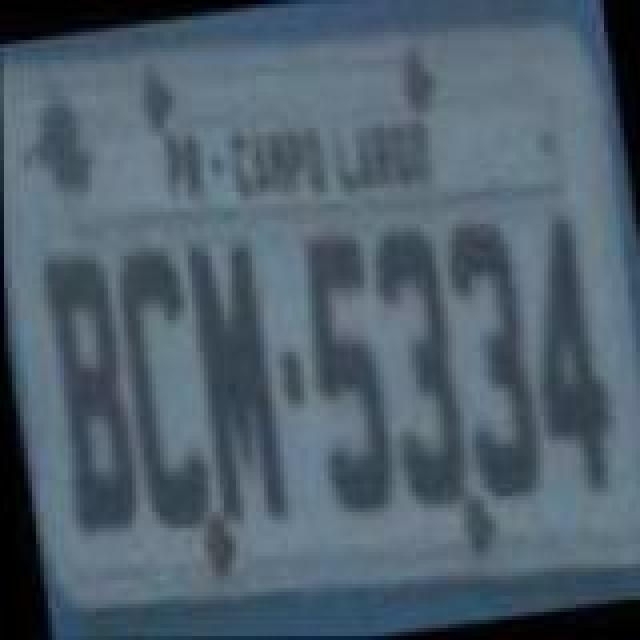3: (430, 210, 550, 510), (356, 216, 472, 516)
4: (508, 206, 624, 506)
5: (282, 222, 402, 526)
B: (28, 242, 144, 542)
C: (98, 240, 218, 540)
M: (172, 228, 288, 528)
